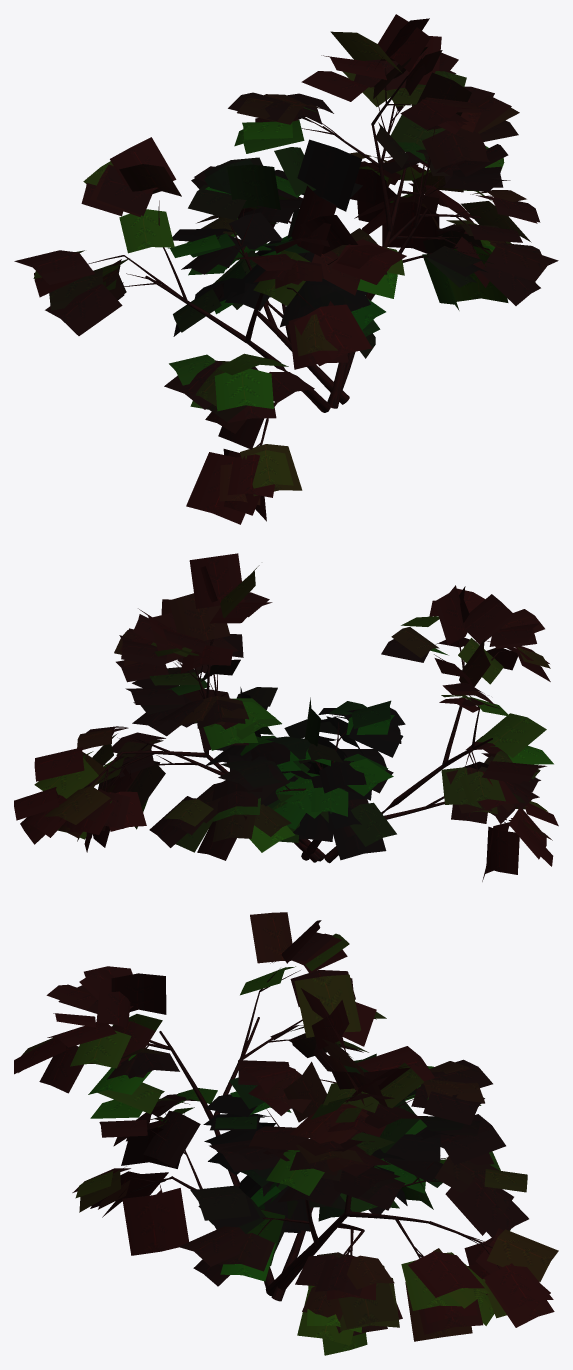
Rendered from prosopis_2.glb.
3 views of the same model, one above another, from view 1: azimuth 30°, elevation 25°; view 2: azimuth 150°, elevation 25°; view 3: azimuth 270°, elevation 25° (orthographic). The views are drawn at different scales.
Parts seen in each view (by area): view 1: prosopis_2; view 2: prosopis_2; view 3: prosopis_2.
Boxes of the visible parts, x1=… form: prosopis_2: x1=14, y1=14, x2=558, y2=524; prosopis_2: x1=14, y1=553, x2=558, y2=881; prosopis_2: x1=14, y1=912, x2=558, y2=1355.
Bounding box in the file's own units: 6.65 × 4.51 × 5.95.
Materials: 2 (2 with a texture image).
